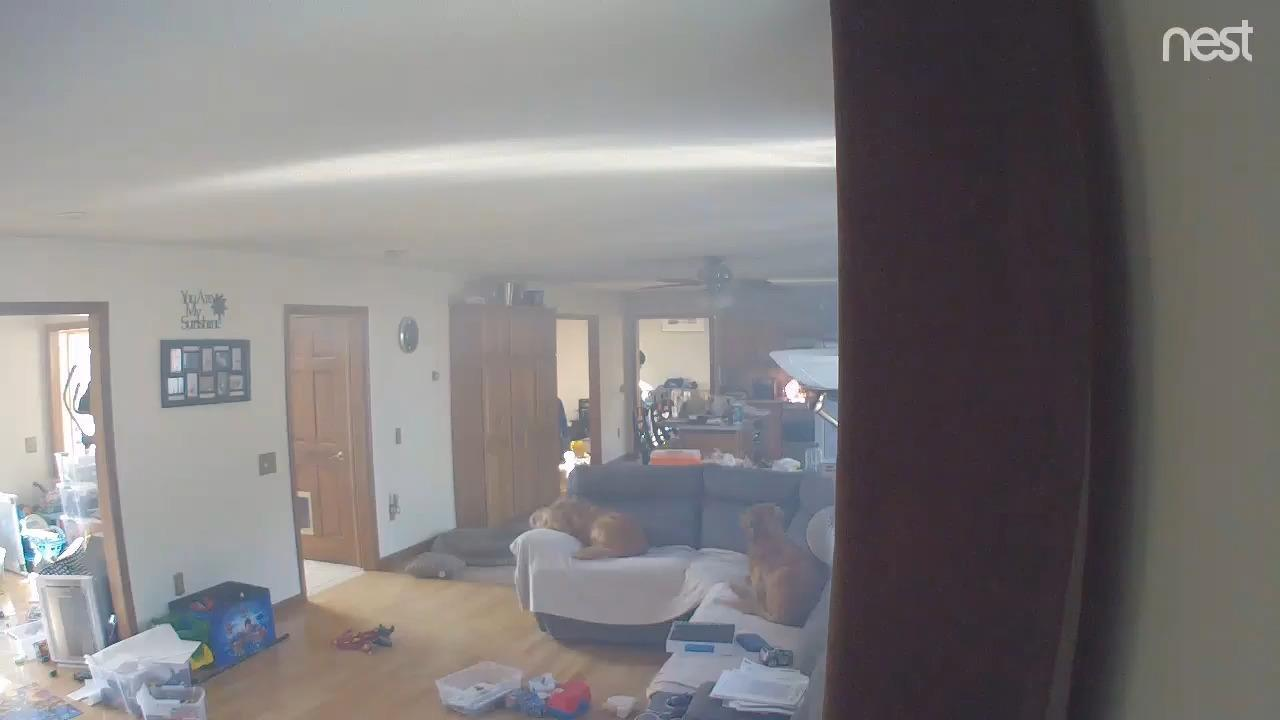fire: (784, 379, 805, 403)
